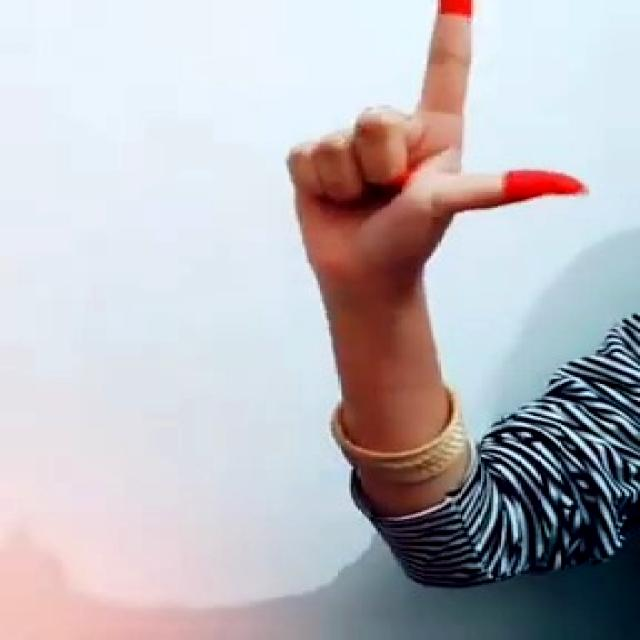Chandrakala: (258, 2, 610, 280)
bangle: (302, 370, 489, 495)
